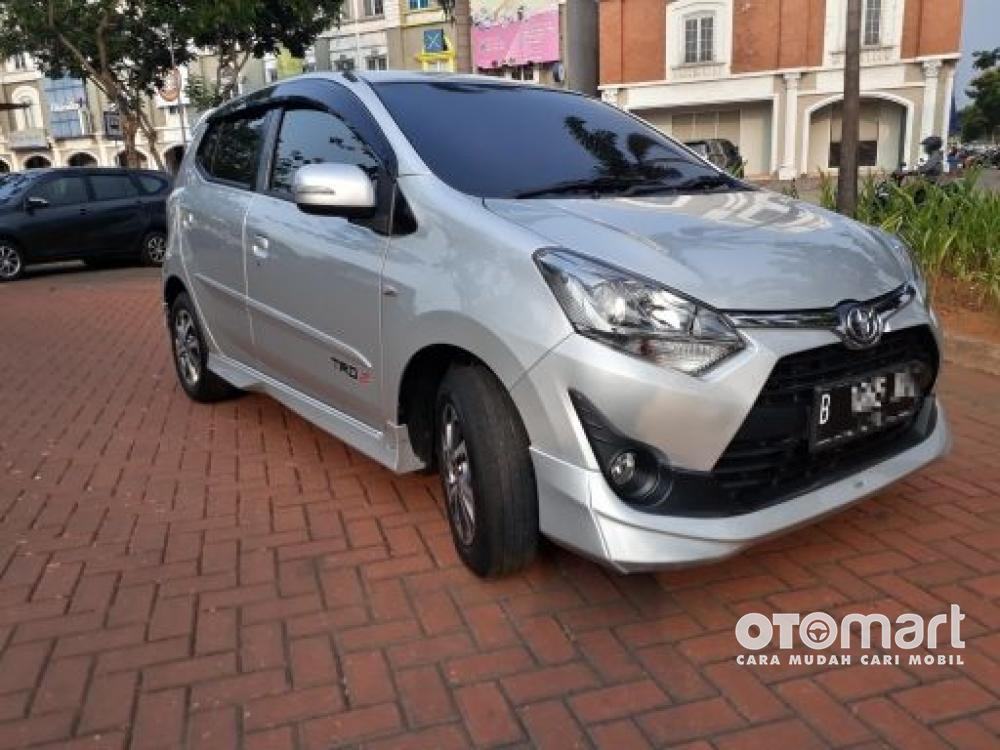mobil: (159, 67, 948, 580)
plat: (794, 336, 941, 447)
